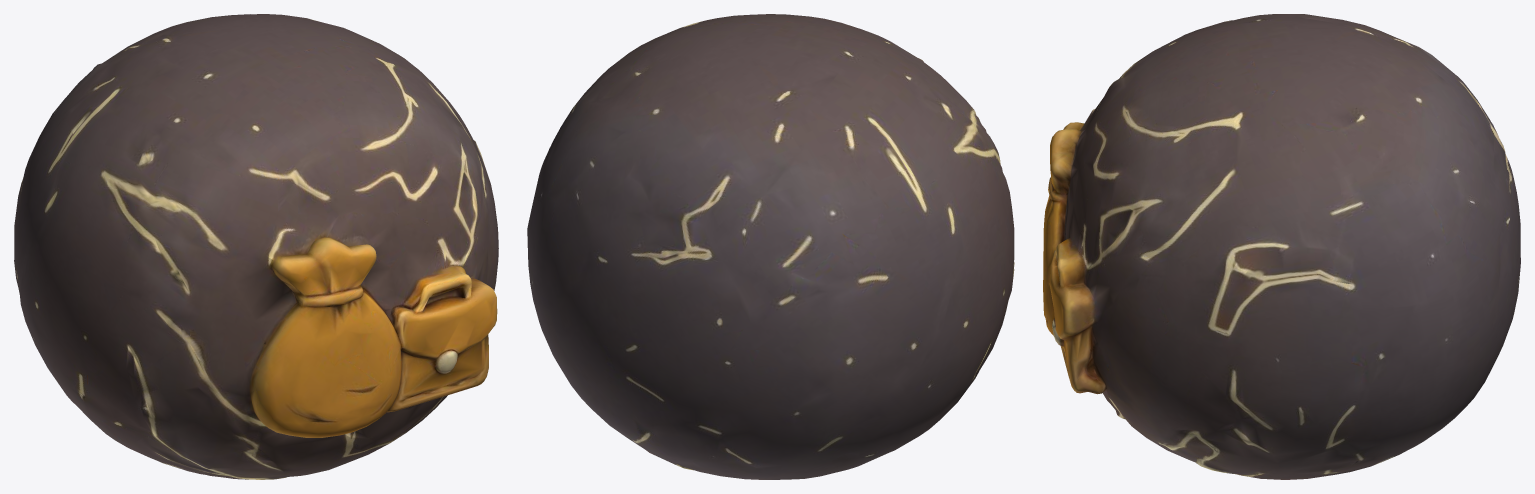
File: space-payday.glb
3 renders of one model, left to right at view 1: azimuth 30°, elevation 25°; view 2: azimuth 150°, elevation 25°; view 3: azimuth 270°, elevation 25°, orthographic.
Parts seen in each view (by area): view 1: Mesh_0; view 2: Mesh_0; view 3: Mesh_0.
Boxes of the visible parts, <box> form: Mesh_0: <box>14,14,498,479</box>; Mesh_0: <box>527,14,1014,479</box>; Mesh_0: <box>1043,14,1520,479</box>.
Bounding box in the file's own units: 2 × 1.88 × 2.
Materials: 1 (1 with a texture image).
